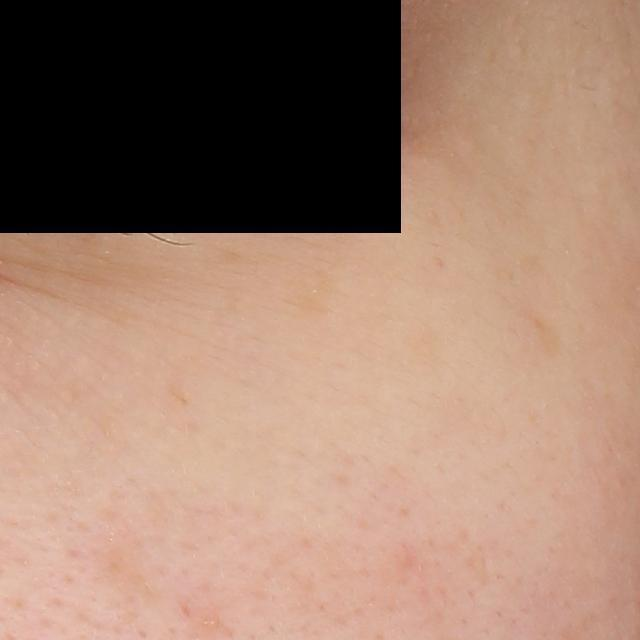melasma: (529, 316, 568, 367)
